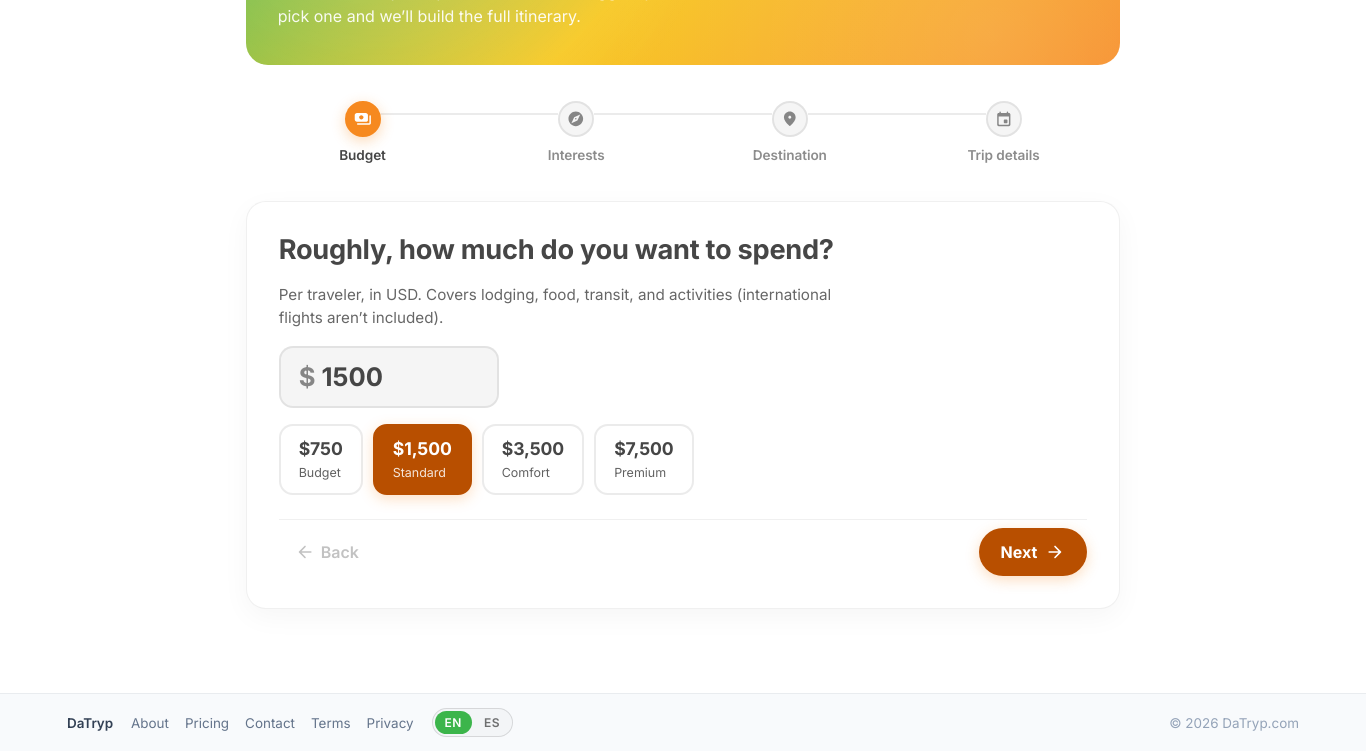
Test: AiTripBuilderPage — wizard › blocks Next with an above-maximum budget
This screenshot has width=1366, height=751.
(page scrolled)
Replace the text in the number field with "60000" at (400, 377), box [321,358,479,396]
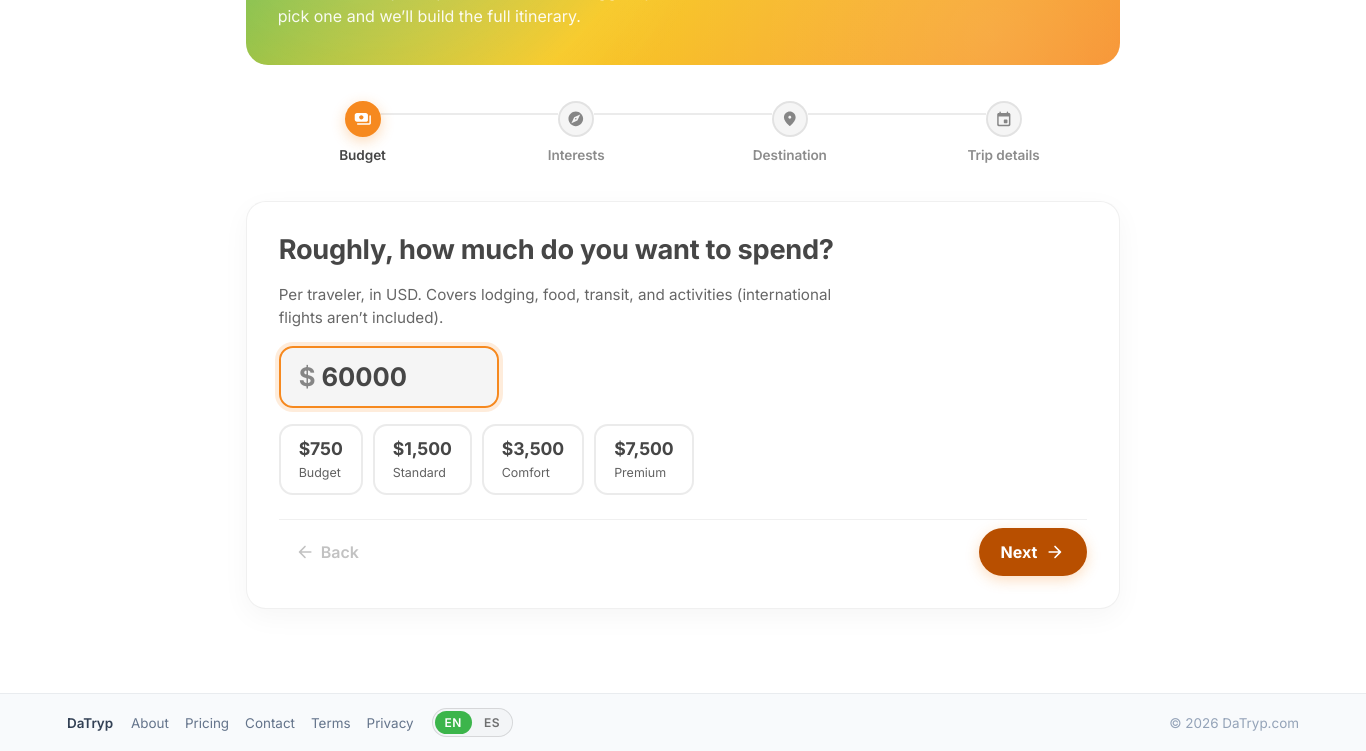
Click the button "Next" at (1033, 552), box [978,528,1087,576]
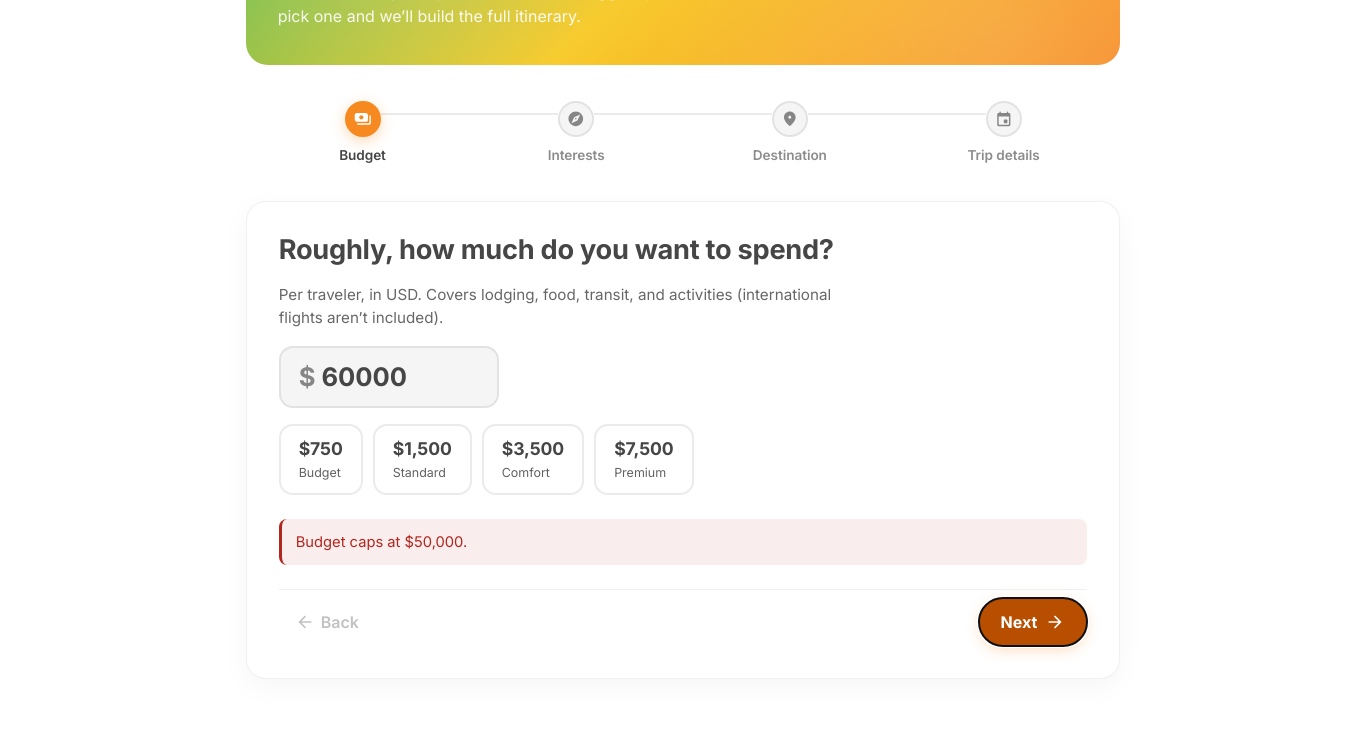
Check: the message shows "caps at $50,000", box [296,533,467,551]
